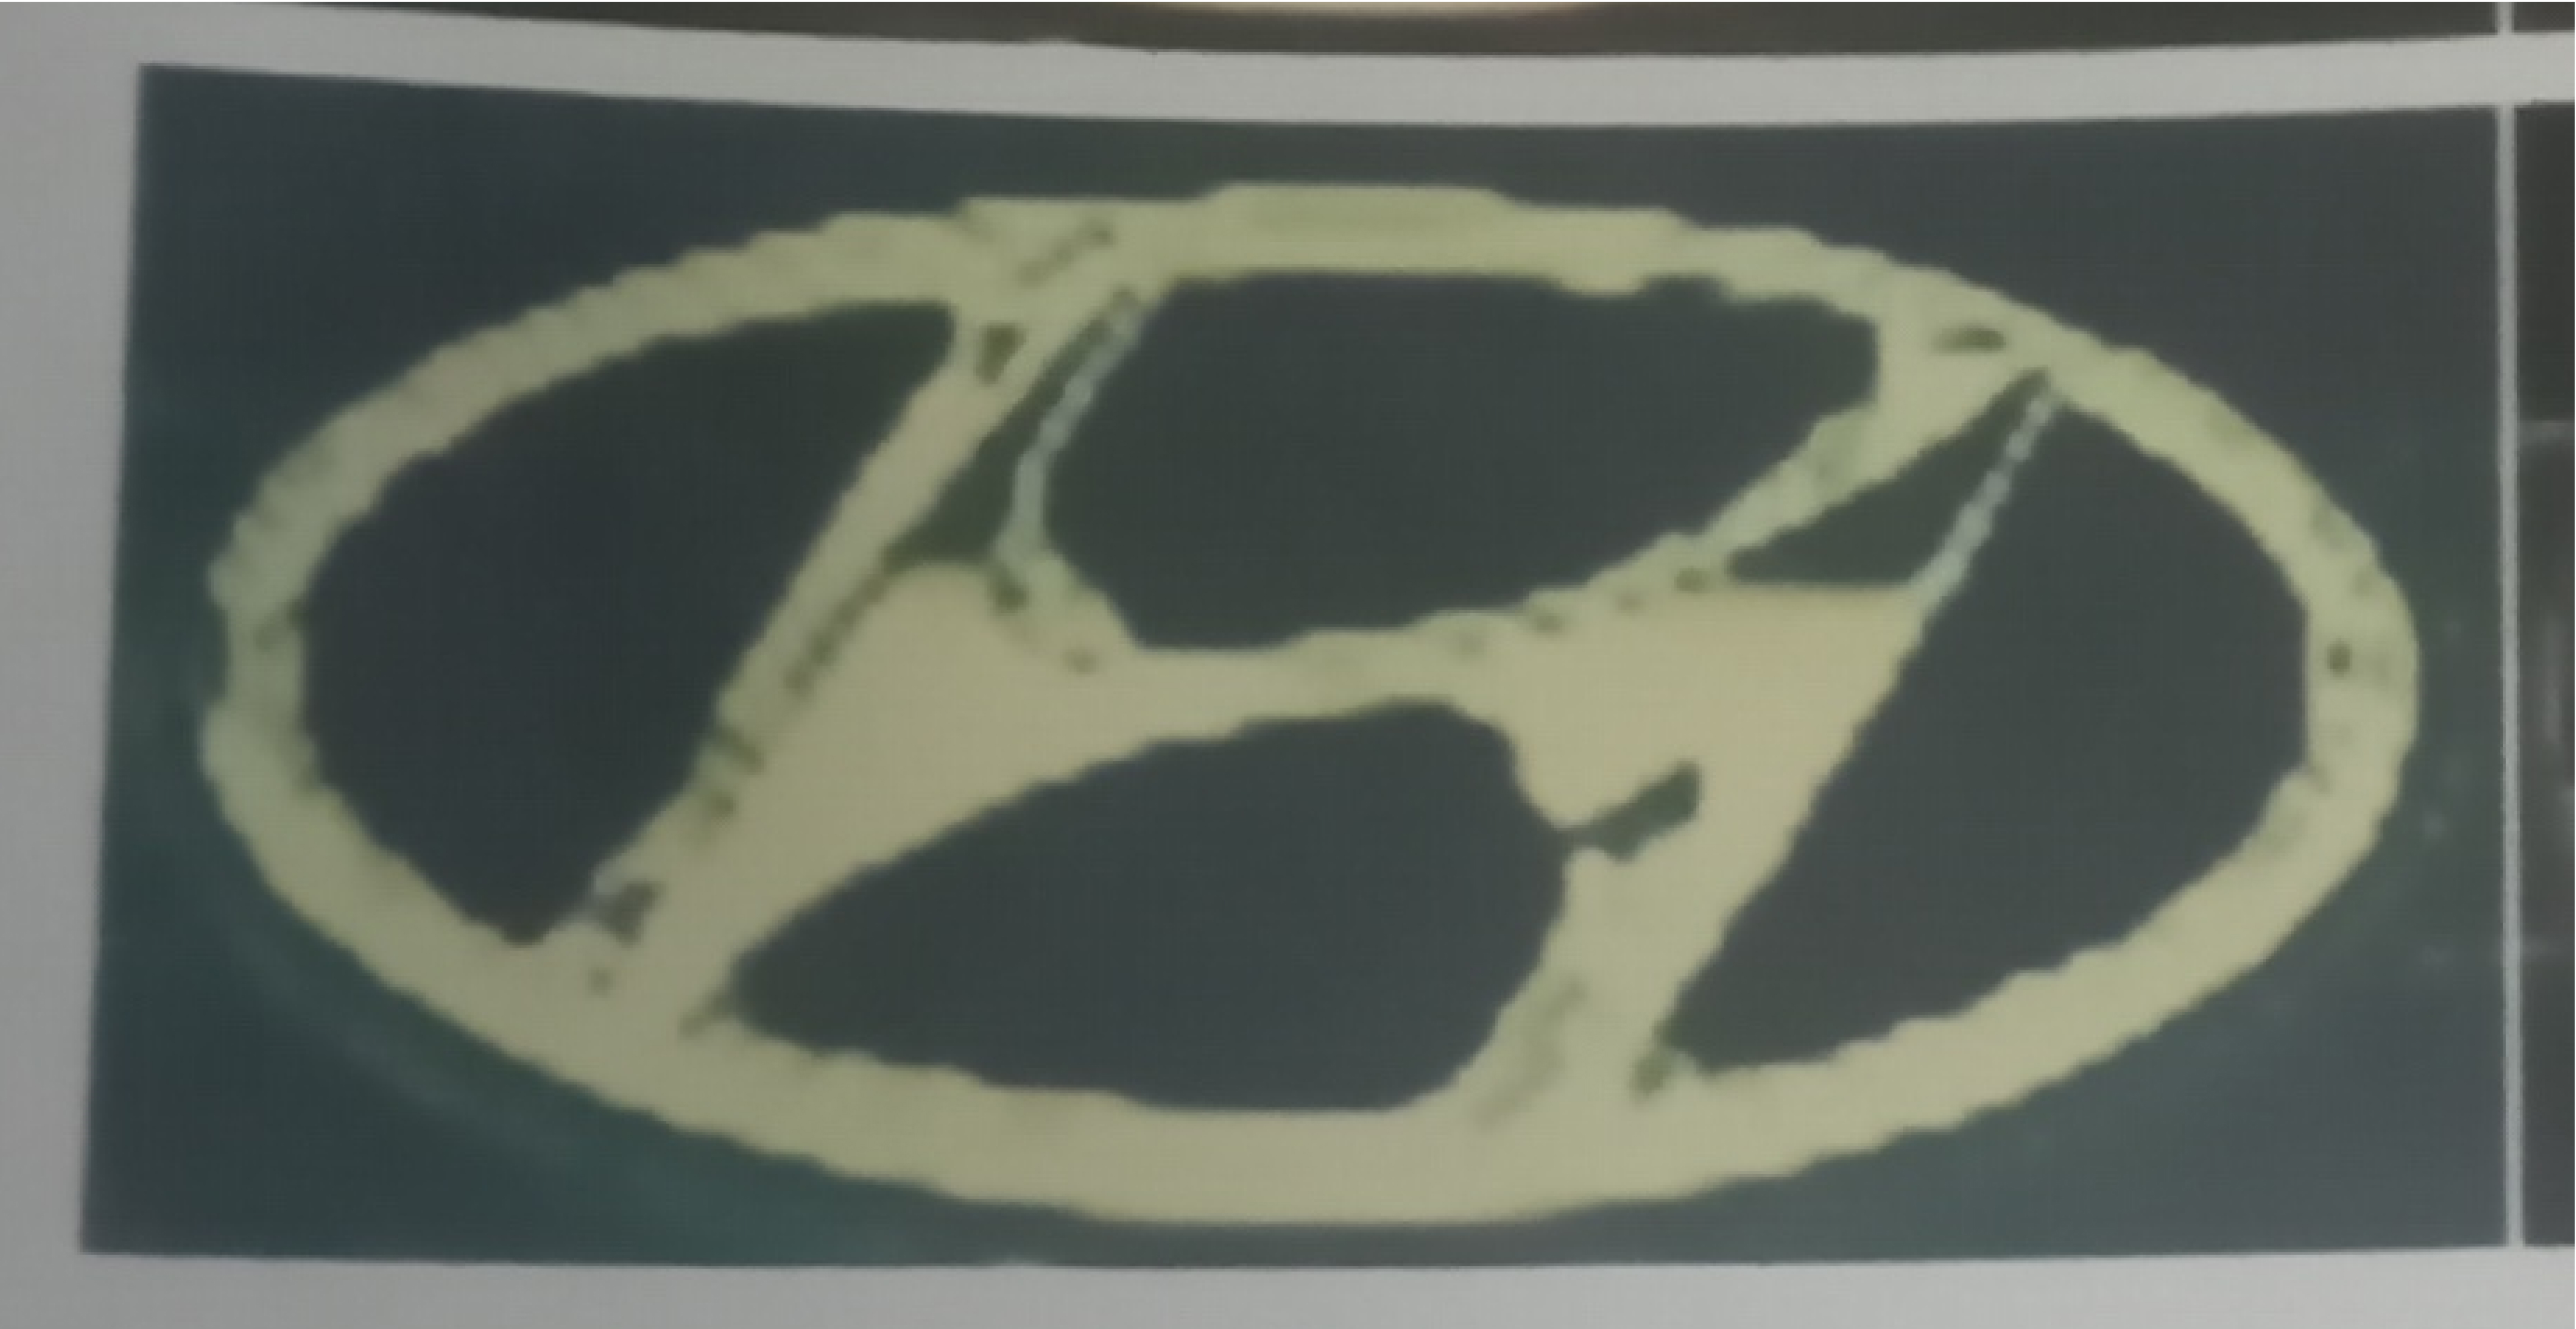Hyundai: (136, 149, 2484, 1249)
